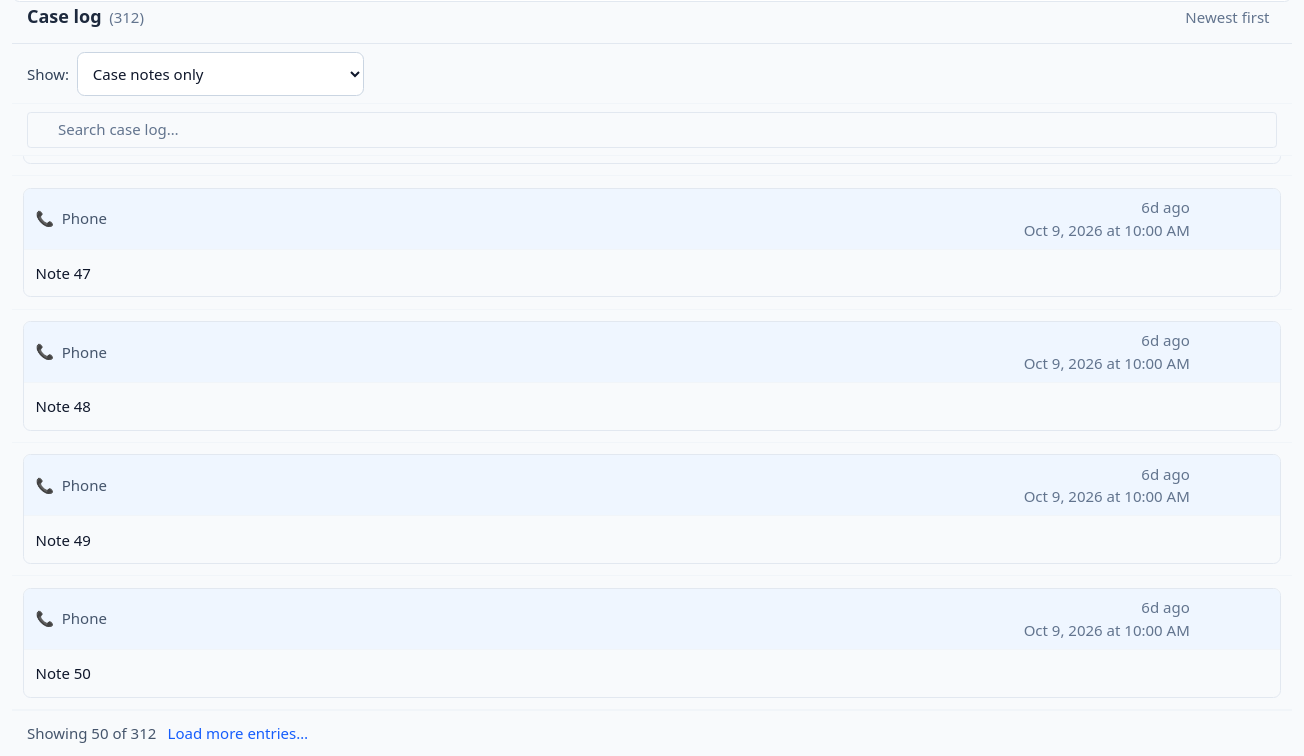
Test: note paging › shows "Showing 50 of 312" and loads the next page from the database
(page scrolled)
Expected: the text "Showing 50 of 312" is shown, [27, 722, 156, 744]
Click the button "Load more entries…" at (238, 733), box [168, 722, 308, 744]
(page scrolled)
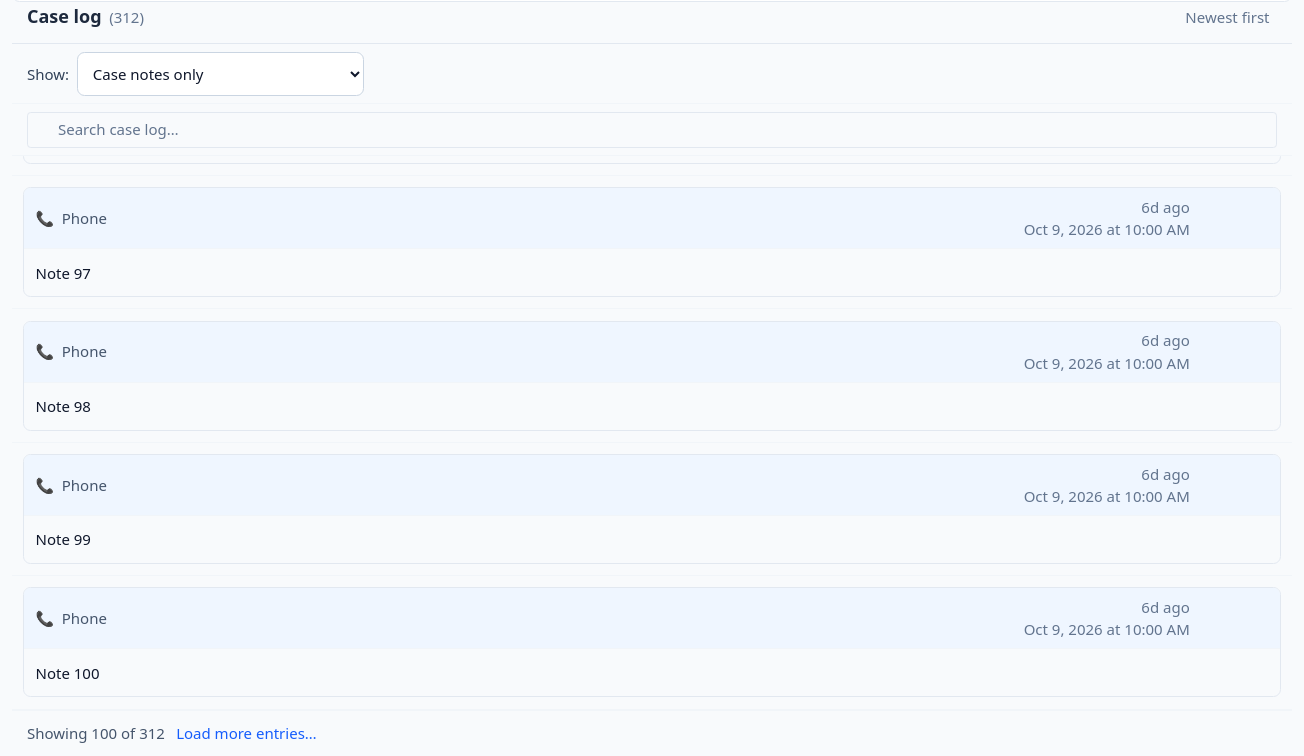
Expected: the text "Showing 100 of 312" is shown, [27, 722, 165, 744]
